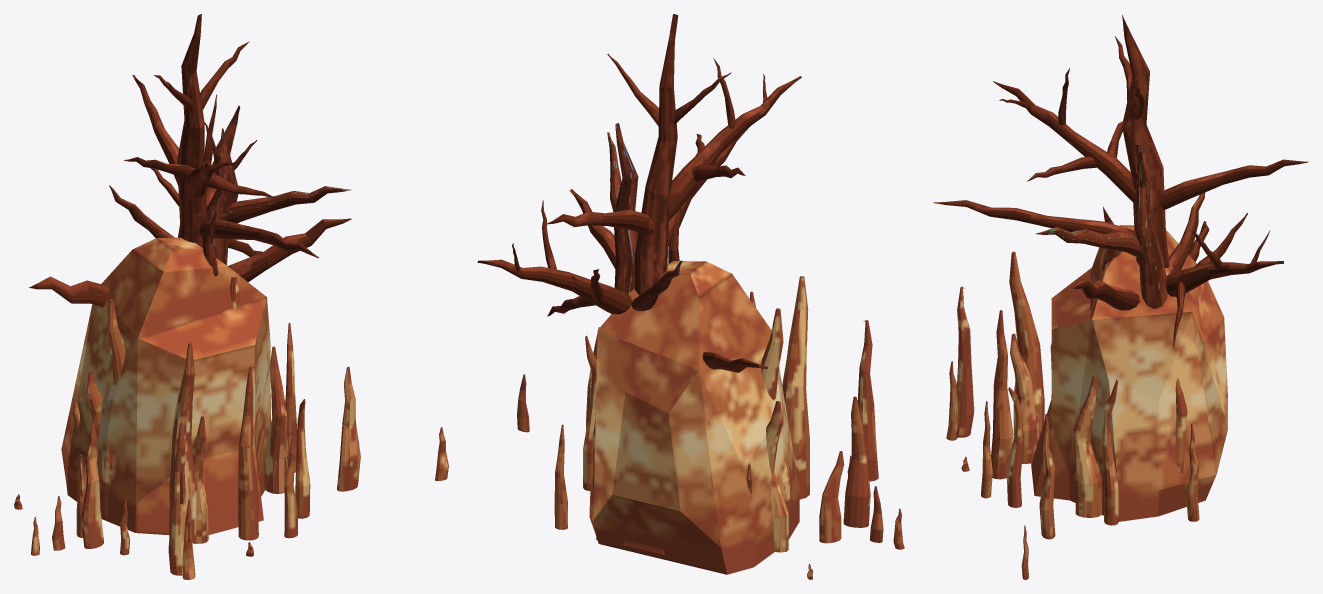
Rendered from desert_models.fbx.
The picture shows the model from 3 angles, left to right: view 1: azimuth 30°, elevation 25°; view 2: azimuth 150°, elevation 25°; view 3: azimuth 270°, elevation 25°; orthographic projection. The views are drawn at different scales.
Parts seen in each view (by area): view 1: 1_rock_big, 1_tall_grass, 1_dead_tree, 1_medium_grass, 1_dead_multi_branch, 1_small_grass, 1_dead_single_branch; view 2: 1_rock_big, 1_dead_tree, 1_tall_grass, 1_medium_grass, 1_dead_multi_branch, 1_small_grass; view 3: 1_rock_big, 1_dead_tree, 1_tall_grass, 1_medium_grass, 1_dead_multi_branch.
Part boxes in pixels (left/top/right/bottom): 1_rock_big: left=61, top=237, right=270, bottom=534; 1_tall_grass: left=81, top=277, right=360, bottom=575; 1_dead_tree: left=28, top=14, right=351, bottom=306; 1_medium_grass: left=52, top=346, right=448, bottom=579; 1_dead_multi_branch: left=109, top=105, right=350, bottom=265; 1_small_grass: left=14, top=400, right=253, bottom=556; 1_dead_single_branch: left=202, top=211, right=218, bottom=276; 1_rock_big: left=589, top=261, right=799, bottom=574; 1_dead_tree: left=477, top=14, right=801, bottom=372; 1_tall_grass: left=583, top=276, right=878, bottom=535; 1_medium_grass: left=517, top=362, right=883, bottom=552; 1_dead_multi_branch: left=607, top=123, right=682, bottom=311; 1_small_grass: left=746, top=451, right=904, bottom=579; 1_rock_big: left=1031, top=225, right=1227, bottom=521; 1_dead_tree: left=933, top=15, right=1308, bottom=347; 1_tall_grass: left=956, top=251, right=1187, bottom=539; 1_medium_grass: left=946, top=333, right=1199, bottom=579; 1_dead_multi_branch: left=1036, top=145, right=1205, bottom=309.
Size of the model in its own units: 12.39 by 14.5 by 10.42.
11 materials, 11 textured.
